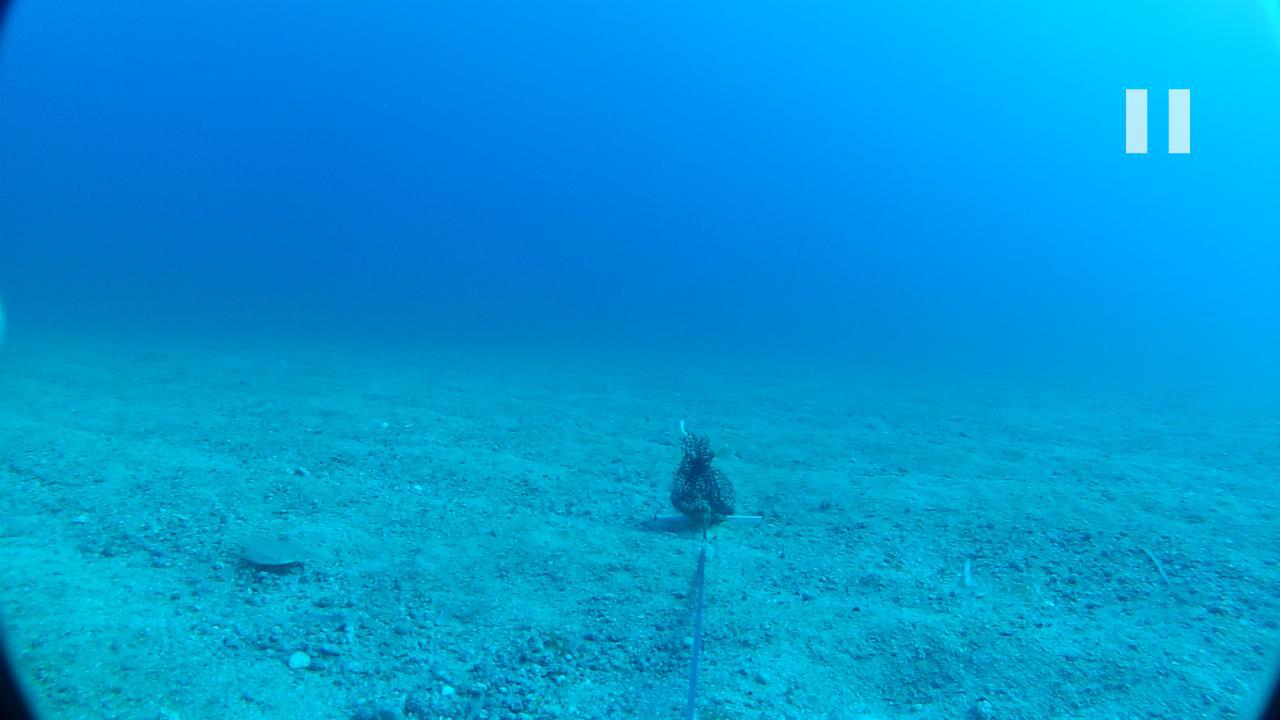bothus: (226, 526, 312, 570)
